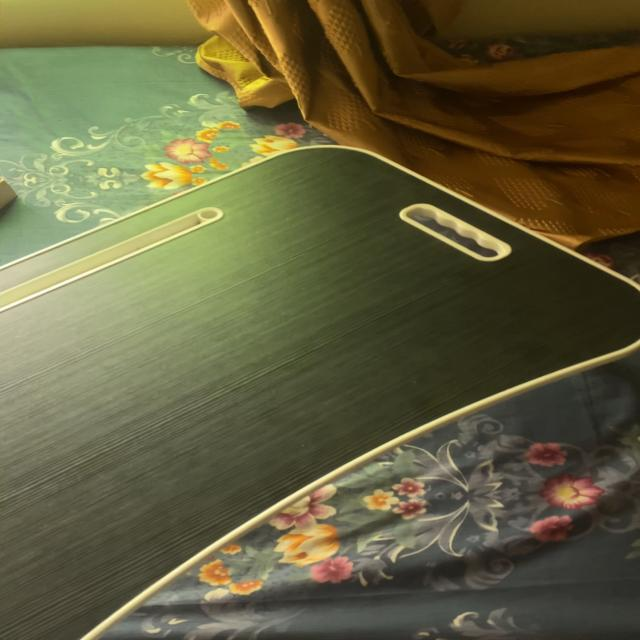table: (1, 146, 640, 640)
